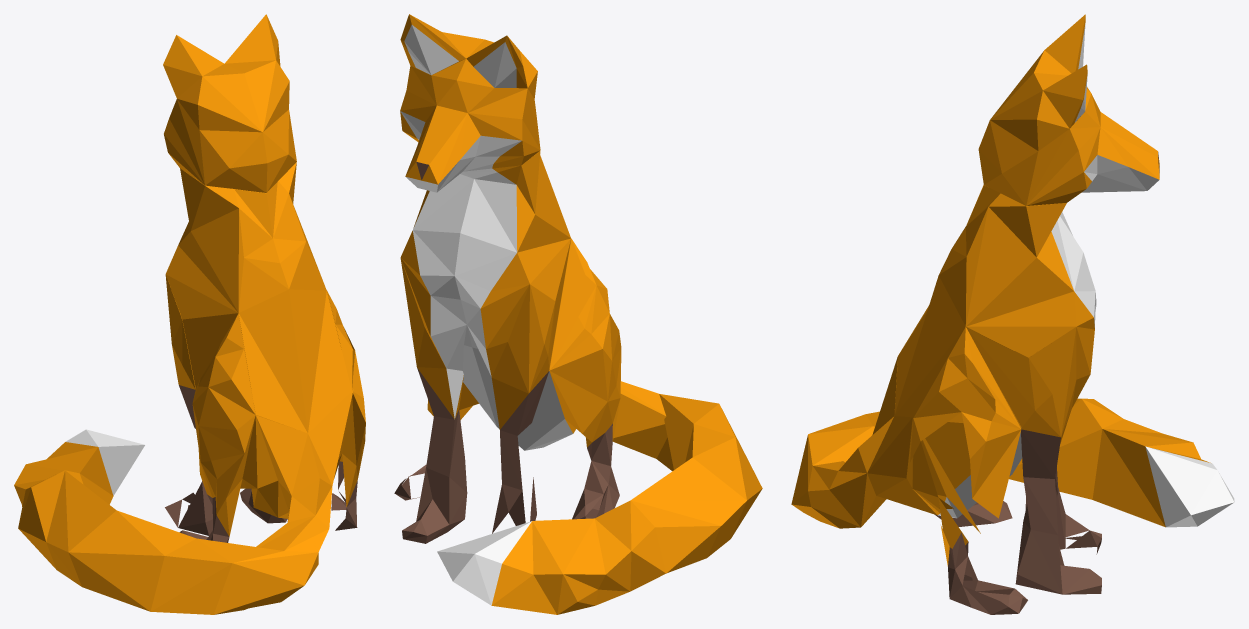
File: animals-fox-v2-105.glb
3 views of the same model, side by side, from view 1: azimuth 30°, elevation 25°; view 2: azimuth 150°, elevation 25°; view 3: azimuth 270°, elevation 25° (orthographic). The views are drawn at different scales.
Parts seen in each view (by area): view 1: Node; view 2: Node; view 3: Node.
Part boxes in pixels (box(x1,y1,x2,y2)): Node: box(14, 14, 365, 614); Node: box(394, 14, 762, 614); Node: box(791, 14, 1234, 614).
Size of the model in its own units: 2.51 by 3.88 by 2.92.
